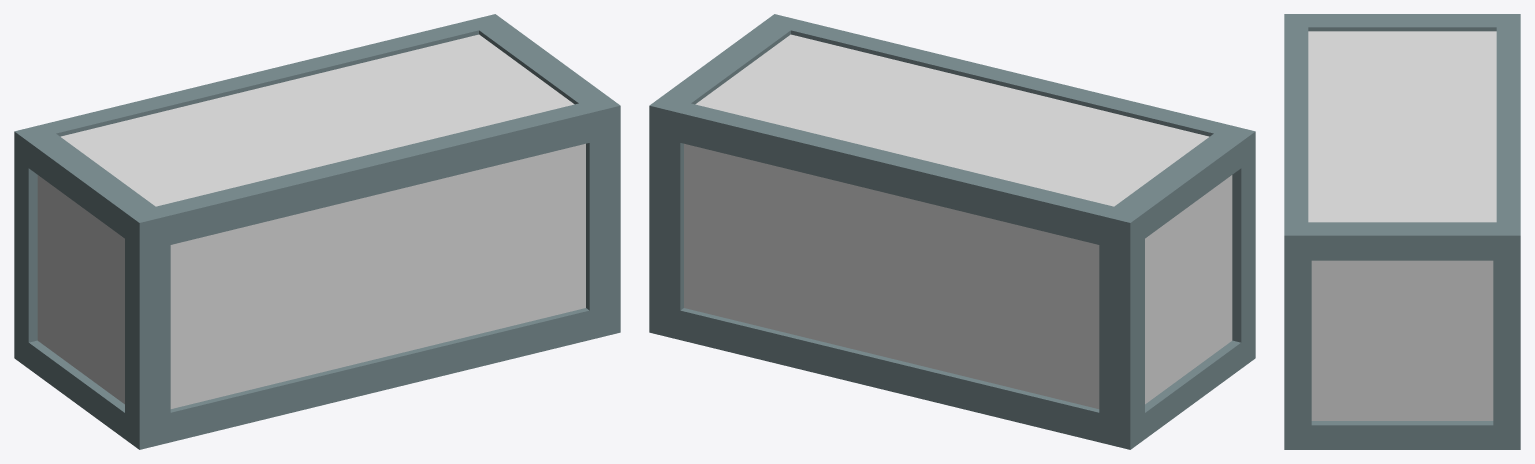
File: Urna.fbx
3 views of the same model, side by side, from view 1: azimuth 30°, elevation 25°; view 2: azimuth 150°, elevation 25°; view 3: azimuth 270°, elevation 25° (orthographic). The views are drawn at different scales.
Parts seen in each view (by area): view 1: Urna_Vidre, Urna_Carcassa; view 2: Urna_Vidre, Urna_Carcassa; view 3: Urna_Vidre, Urna_Carcassa.
Part boxes in pixels (bbox=[...]): Urna_Vidre: bbox=[37, 34, 585, 408]; Urna_Carcassa: bbox=[14, 14, 620, 449]; Urna_Vidre: bbox=[684, 34, 1232, 408]; Urna_Carcassa: bbox=[649, 14, 1255, 449]; Urna_Vidre: bbox=[1308, 31, 1496, 420]; Urna_Carcassa: bbox=[1284, 14, 1520, 449].
Bounding box in the file's own units: 460 × 207 × 207.
